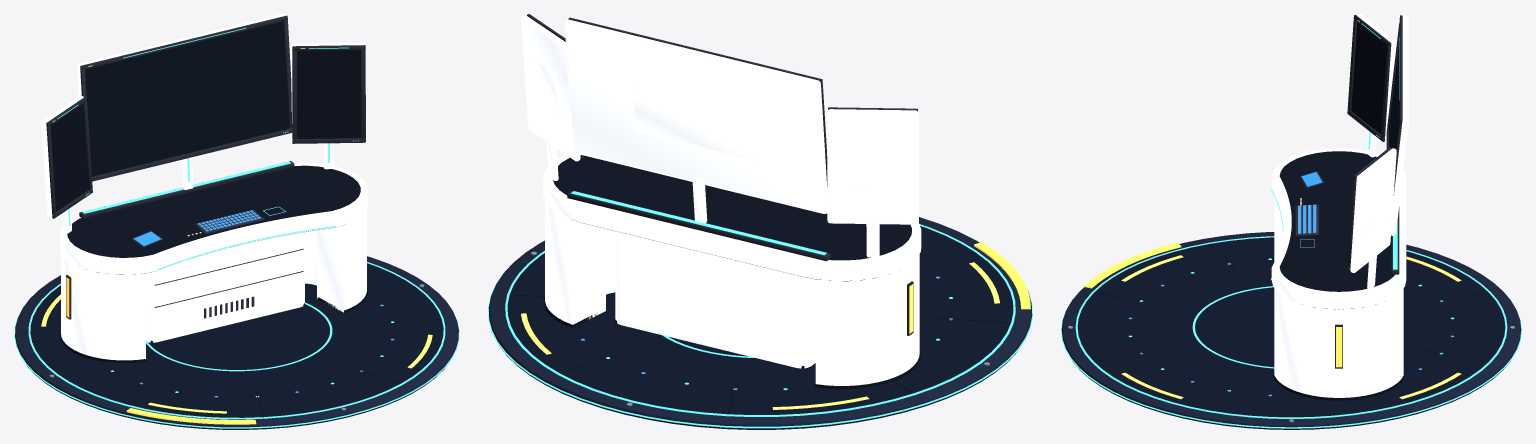
The model's file is desk_console.glb.
3 views of the same model, side by side, from view 1: azimuth 30°, elevation 25°; view 2: azimuth 150°, elevation 25°; view 3: azimuth 270°, elevation 25° (orthographic). The views are drawn at different scales.
Visible parts, largest first — view 1: desk_console; view 2: desk_console; view 3: desk_console.
Part boxes in pixels (x1,y1,x2,y2): desk_console: [14, 14, 459, 429]; desk_console: [488, 14, 1032, 429]; desk_console: [1061, 14, 1521, 429].
Size of the model in its own units: 2.91 by 1.86 by 2.91.
